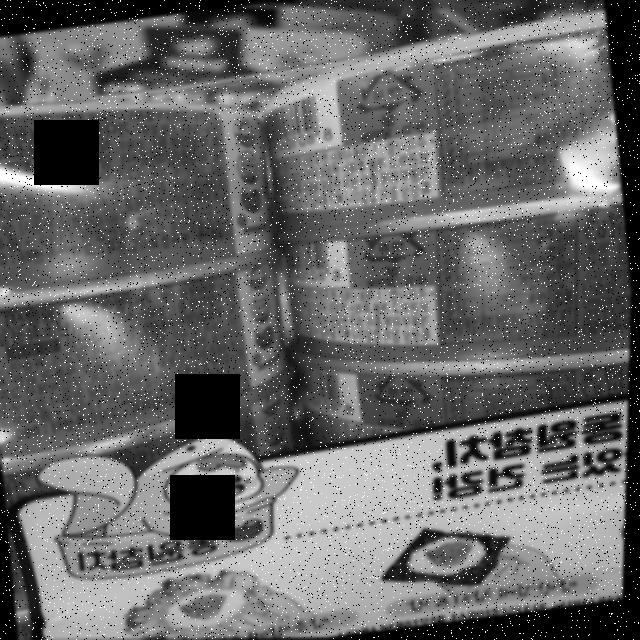Can: (350, 66, 424, 119), (369, 371, 435, 412), (359, 228, 425, 268)
